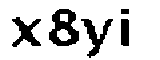8: (49, 4, 80, 49)
i: (117, 6, 136, 48)
x: (8, 15, 45, 50)
y: (82, 17, 112, 60)
